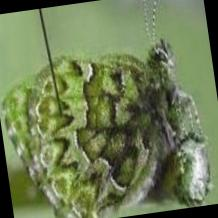butterfly: (4, 40, 211, 218)
